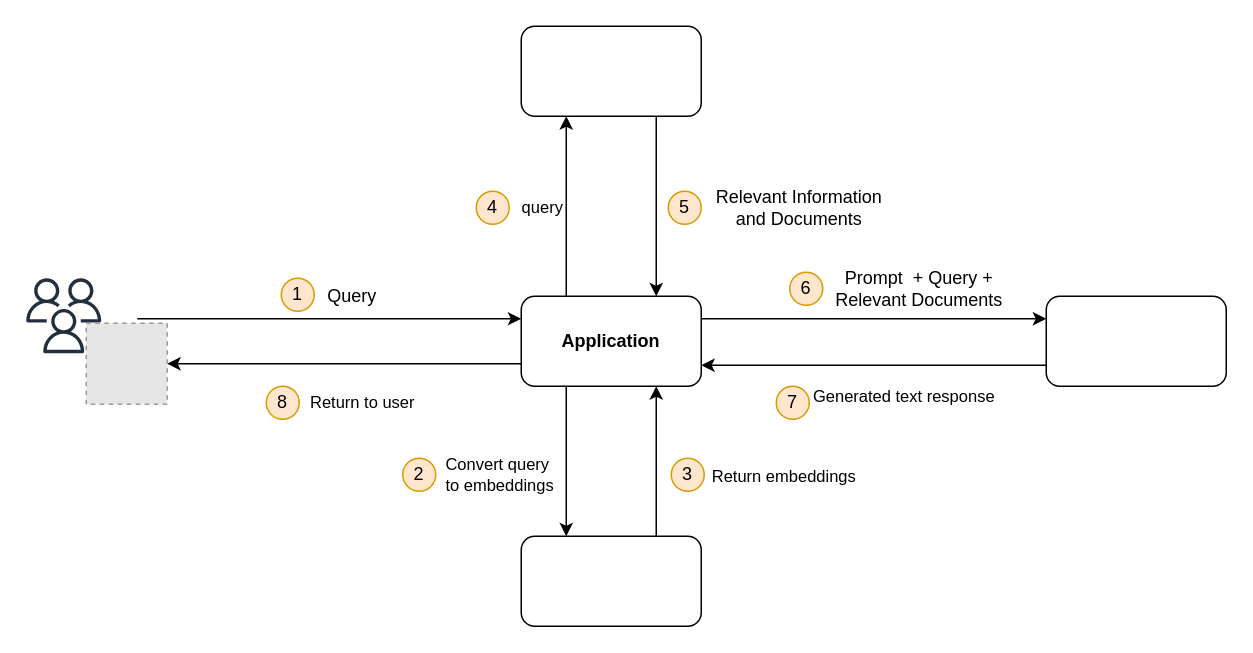
This 1253x653 diagram has some shape labels left out. Grey dashed boxes stand in for pictures. Each missing label, with the box of its shape:
Embedding Model: (520, 535, 701, 626)
Foundation Model: (1045, 295, 1226, 386)
Knowledge Sources: (520, 25, 701, 116)
